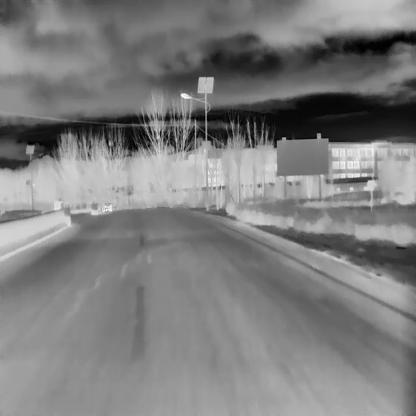car: (101, 202, 112, 212)
